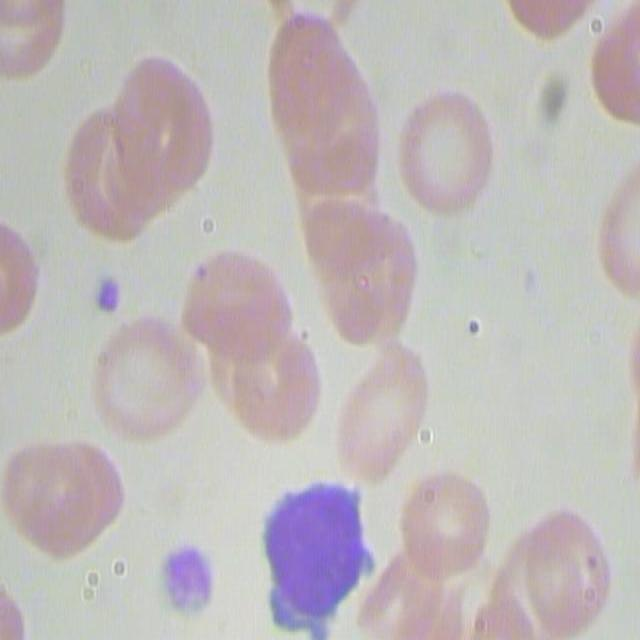RBC: (183, 237, 323, 446), (270, 7, 387, 216), (97, 52, 215, 224), (493, 503, 616, 637), (3, 436, 128, 564), (307, 203, 417, 348), (86, 308, 197, 447), (389, 83, 494, 217), (65, 102, 163, 239), (333, 335, 423, 476), (397, 467, 496, 591), (379, 543, 505, 640), (597, 144, 640, 296), (589, 0, 639, 121), (0, 0, 66, 79), (0, 212, 39, 339), (496, 0, 602, 37)
WBC: (252, 473, 367, 640)
platelets: (154, 528, 220, 626), (92, 270, 122, 317)
